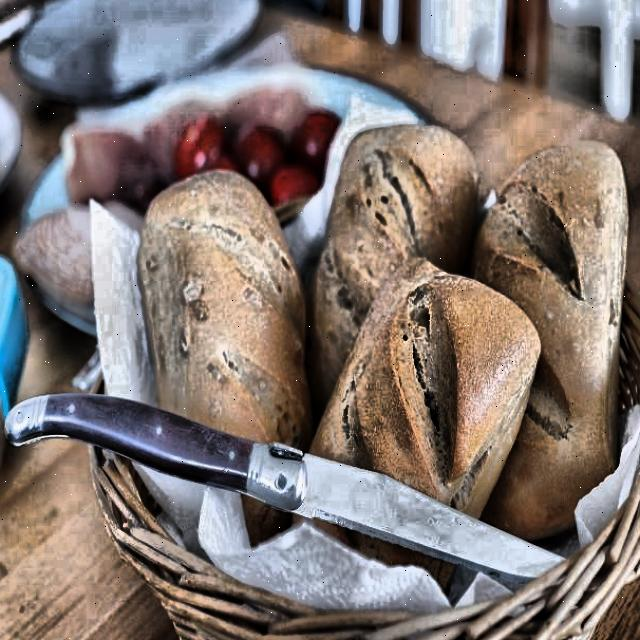knife: (3, 385, 567, 590)
